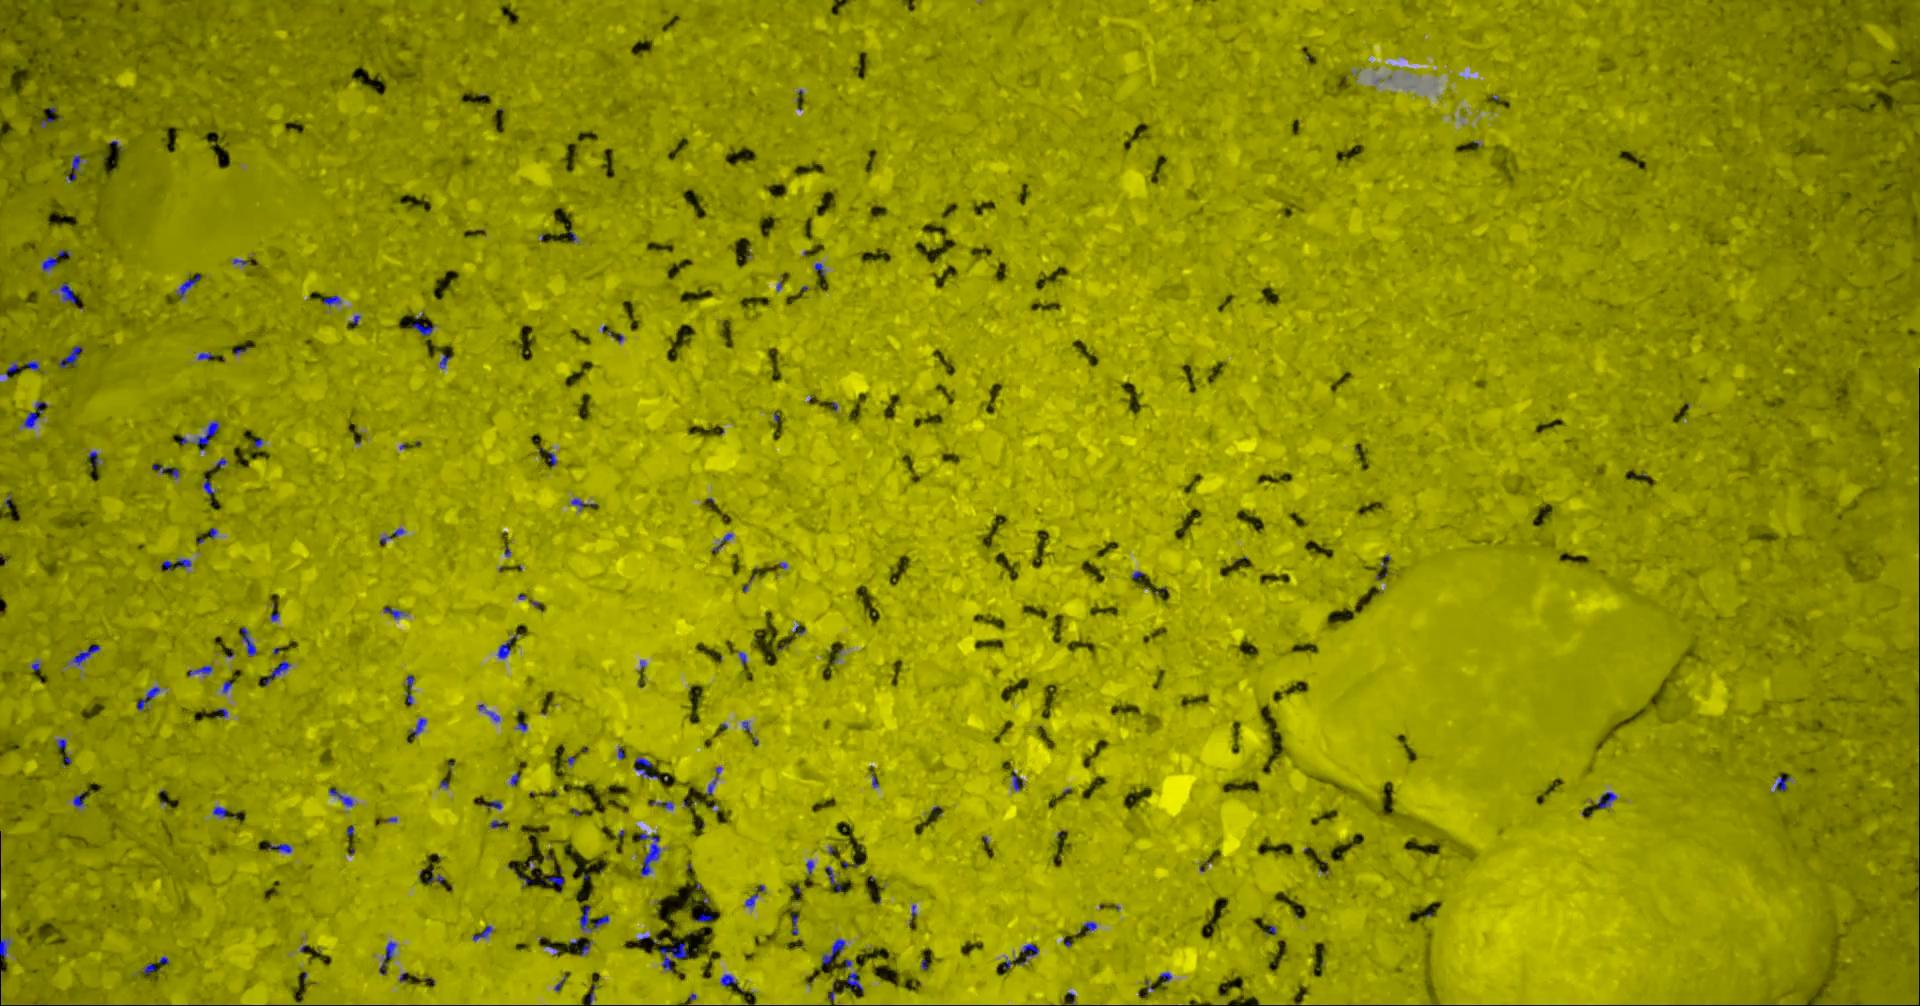ant: (641, 832, 662, 875), (662, 940, 690, 970), (194, 420, 221, 450), (24, 400, 50, 427), (265, 661, 292, 685), (823, 937, 846, 964), (72, 645, 102, 666), (178, 274, 202, 297), (58, 345, 84, 367), (381, 941, 397, 974), (138, 686, 161, 709), (635, 757, 659, 777), (330, 788, 356, 807), (1018, 942, 1040, 964), (413, 315, 436, 335), (745, 884, 766, 906), (154, 464, 182, 479), (243, 627, 258, 655), (479, 704, 502, 721), (827, 866, 843, 890), (709, 766, 723, 794), (381, 527, 406, 542), (844, 972, 865, 991), (69, 155, 83, 180), (61, 283, 77, 304), (1597, 791, 1618, 808), (543, 876, 565, 892), (474, 925, 495, 940), (571, 498, 597, 511), (42, 105, 57, 126), (582, 906, 594, 930), (411, 716, 427, 735), (385, 606, 405, 619), (189, 666, 215, 676), (499, 639, 512, 658), (408, 674, 415, 705), (204, 476, 217, 494), (650, 800, 676, 809), (1, 937, 11, 959), (324, 295, 343, 306), (269, 843, 293, 852), (43, 257, 58, 271), (1777, 776, 1790, 790), (74, 793, 88, 807), (1013, 774, 1025, 790), (596, 915, 610, 927), (721, 974, 737, 986), (177, 558, 193, 568), (215, 807, 229, 815)
